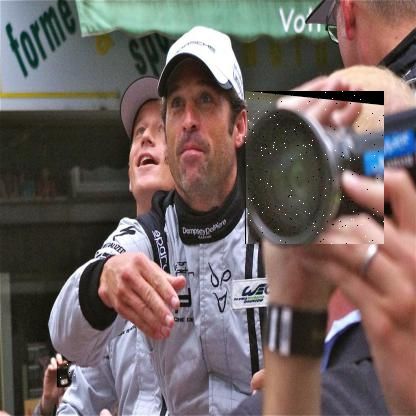Camera: (246, 92, 386, 246), (58, 362, 78, 389)
